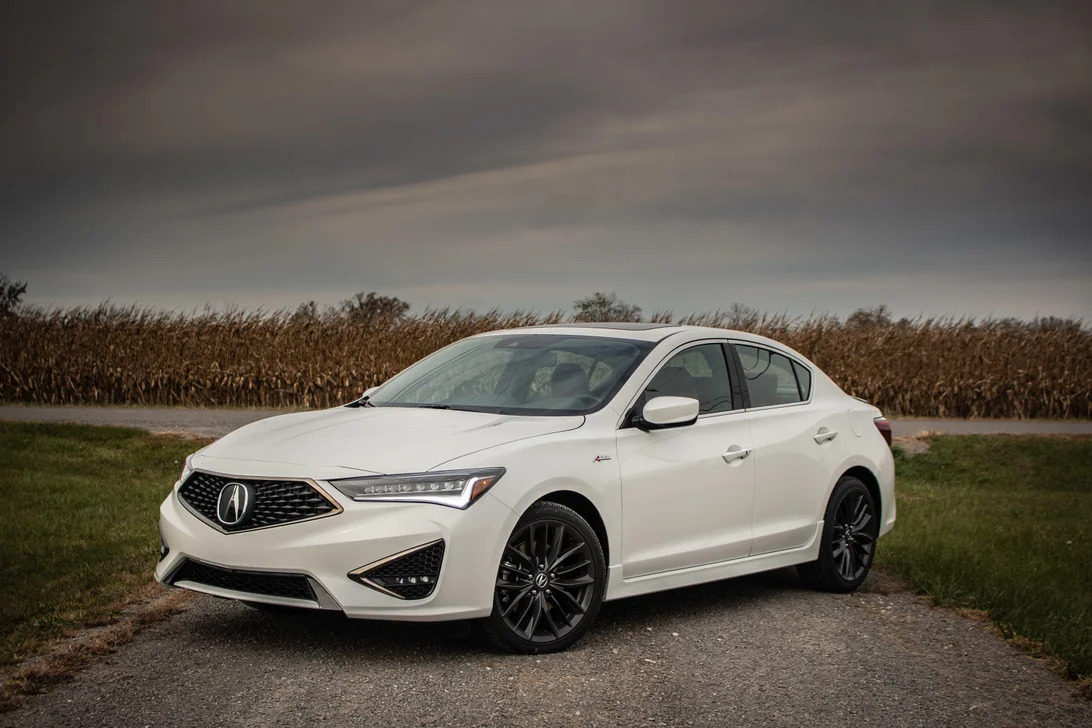Fog Lamp & Scope: (376, 547, 446, 596)
Front: (157, 421, 592, 619)
Front Bumper: (158, 524, 489, 618)
Grill: (186, 478, 321, 523)
Headlight: (344, 468, 511, 505)
